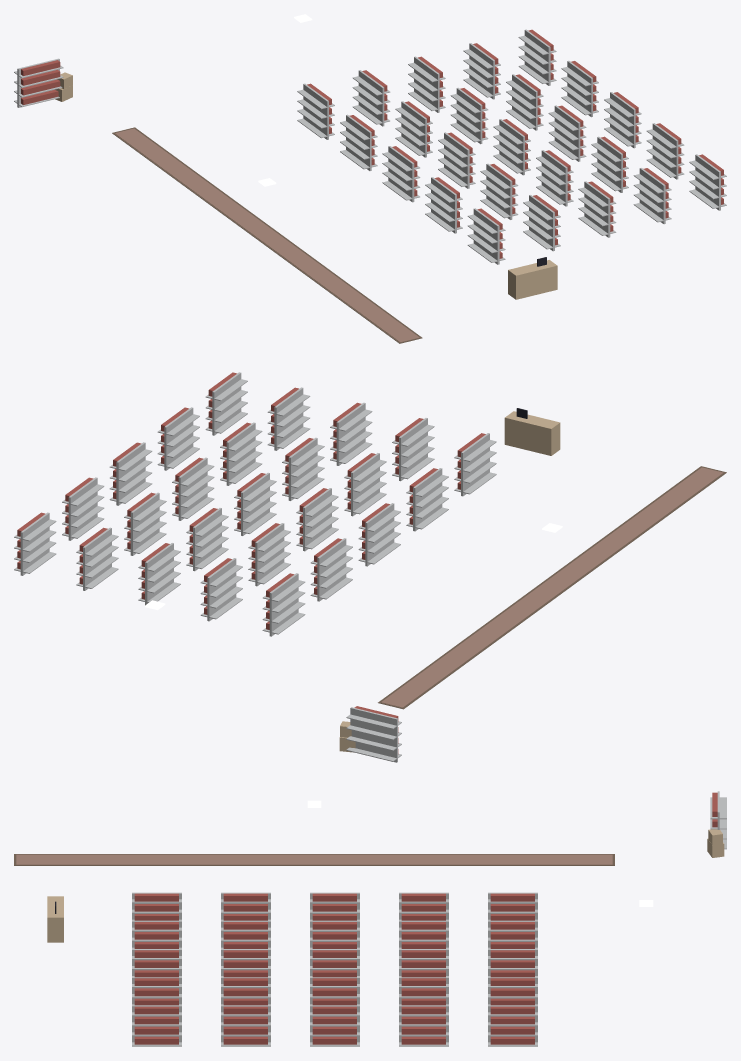
Rendered from fine-s0.glb.
3 views of the same model, one above another, from view 1: azimuth 30°, elevation 25°; view 2: azimuth 150°, elevation 25°; view 3: azimuth 270°, elevation 25° (orthographic). The views are drawn at different scales.
Visible parts, largest first — view 1: soft-s0, shelving.000, shop-counter.000, shelf.014, shelf.020, shelf.008, shelf.002, shelf.011, shelf.017, shelf.019, shelf.023, shelf.005 (+16 smaller); view 2: soft-s0, shelving.000, shop-counter.000, shelf.024, shelf.003, shelf.006, shelf.000, shelf.016, shelf.022, shelf.020, shelf.013, shelf.017 (+16 smaller); view 3: soft-s0, shelf.020, shelf.021, shelf.022, shelf.023, shelf.024, shelf.000, shelf.001, shelf.002, shelf.003, shelf.004, shelf.005 (+17 smaller).
Part boxes in pixels (x1,y1,x2,y2): soft-s0: [112, 127, 422, 343]; shelving.000: [14, 58, 63, 107]; shop-counter.000: [508, 257, 557, 299]; shelf.014: [578, 181, 616, 237]; shelf.020: [518, 29, 556, 85]; shelf.008: [480, 163, 518, 219]; shelf.002: [382, 146, 420, 202]; shelf.011: [450, 87, 488, 144]; shelf.017: [548, 105, 586, 161]; shelf.019: [633, 168, 671, 224]; shelf.023: [646, 123, 684, 179]; shelf.005: [352, 70, 390, 126]; soft-s0: [378, 466, 726, 709]; shelving.000: [346, 706, 401, 762]; shop-counter.000: [504, 408, 560, 455]; shelf.024: [205, 372, 247, 435]; shelf.003: [406, 468, 448, 531]; shelf.006: [248, 523, 290, 586]; shelf.000: [262, 573, 305, 636]; shelf.016: [124, 492, 166, 555]; shelf.022: [109, 442, 152, 505]; shelf.020: [14, 512, 56, 575]; shelf.013: [282, 437, 324, 500]; shelf.017: [172, 457, 214, 520]; soft-s0: [14, 854, 614, 865]; shelf.020: [488, 1005, 537, 1046]; shelf.021: [399, 1005, 448, 1046]; shelf.022: [310, 1005, 359, 1046]; shelf.023: [221, 1005, 270, 1046]; shelf.024: [132, 1005, 181, 1046]; shelf.000: [488, 892, 537, 920]; shelf.001: [399, 892, 448, 920]; shelf.002: [310, 892, 359, 920]; shelf.003: [221, 892, 270, 920]; shelf.004: [132, 892, 181, 920]; shelf.005: [488, 920, 537, 948].
Bounding box in the file's own units: 18.55 × 2.24 × 25.64.
